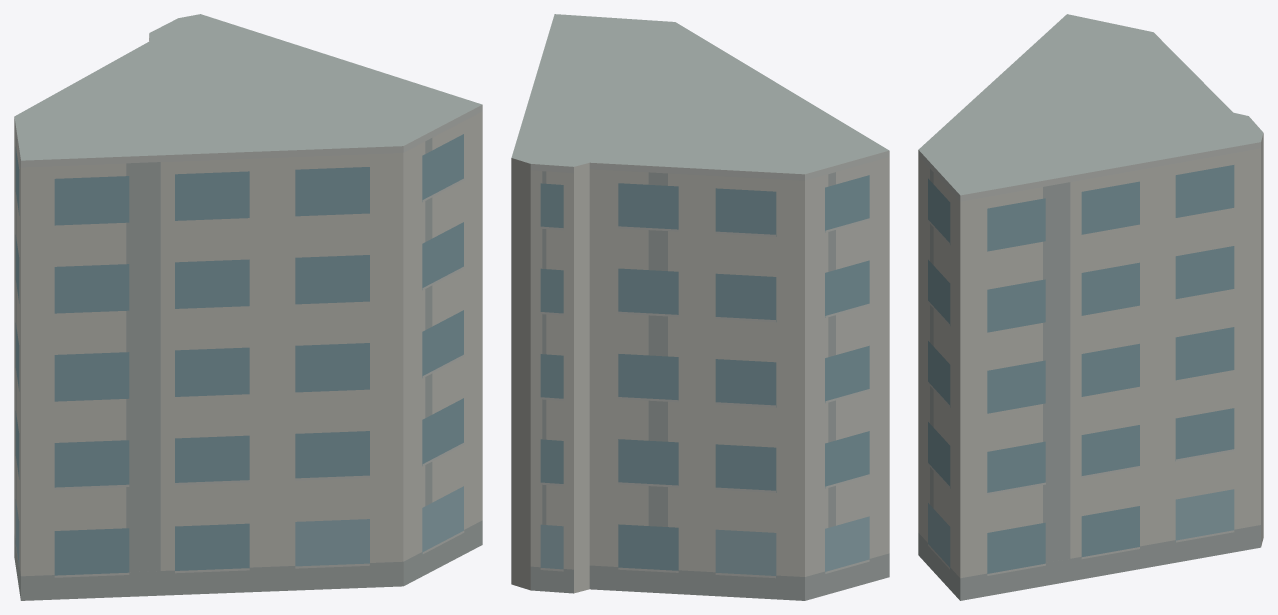
File: survey-upis-32723721.glb
3 renders of one model, left to right at view 1: azimuth 30°, elevation 25°; view 2: azimuth 150°, elevation 25°; view 3: azimuth 270°, elevation 25°, orthographic. The views are drawn at different scales.
Visible parts, largest first — view 1: survey-upis-32723721.tmp; view 2: survey-upis-32723721.tmp; view 3: survey-upis-32723721.tmp.
Part boxes in pixels (box(x1,y1,x2,y2)): survey-upis-32723721.tmp: box(14, 14, 482, 600); survey-upis-32723721.tmp: box(511, 14, 889, 600); survey-upis-32723721.tmp: box(918, 14, 1263, 600).
Size of the model in its own units: 15.36 by 16 by 12.35.
